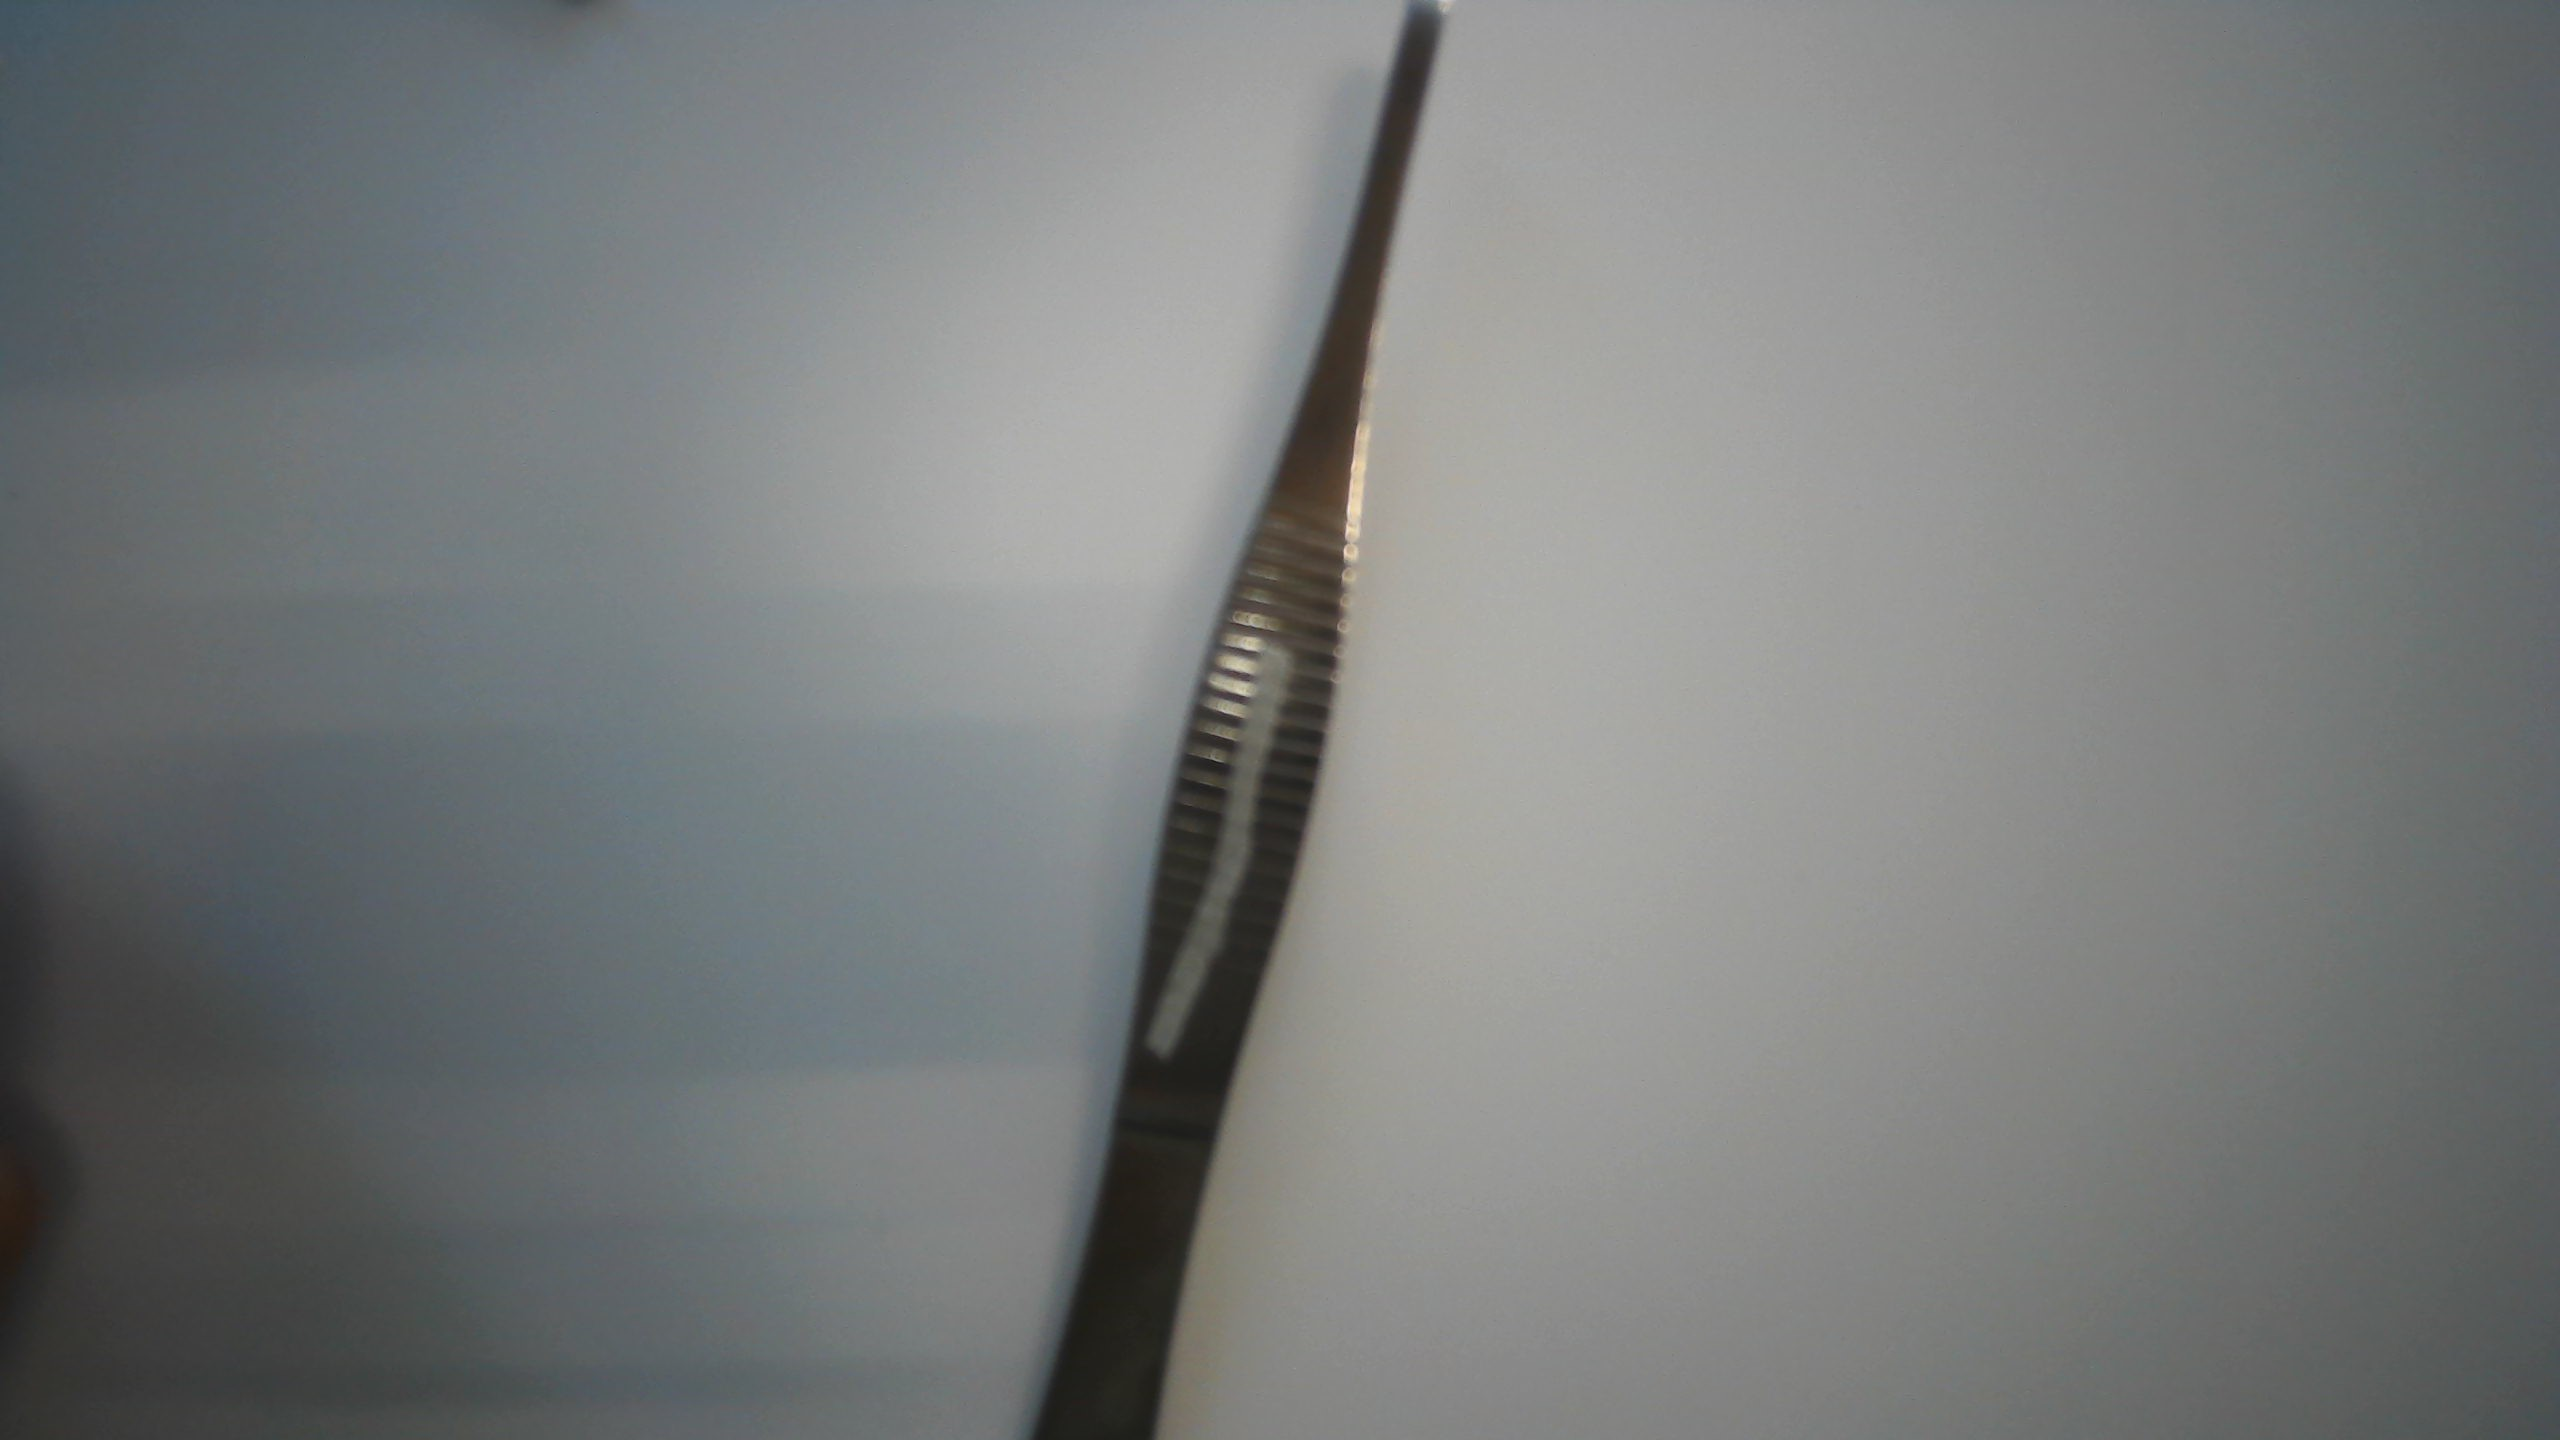Scratches: (1118, 642, 1312, 1069)
